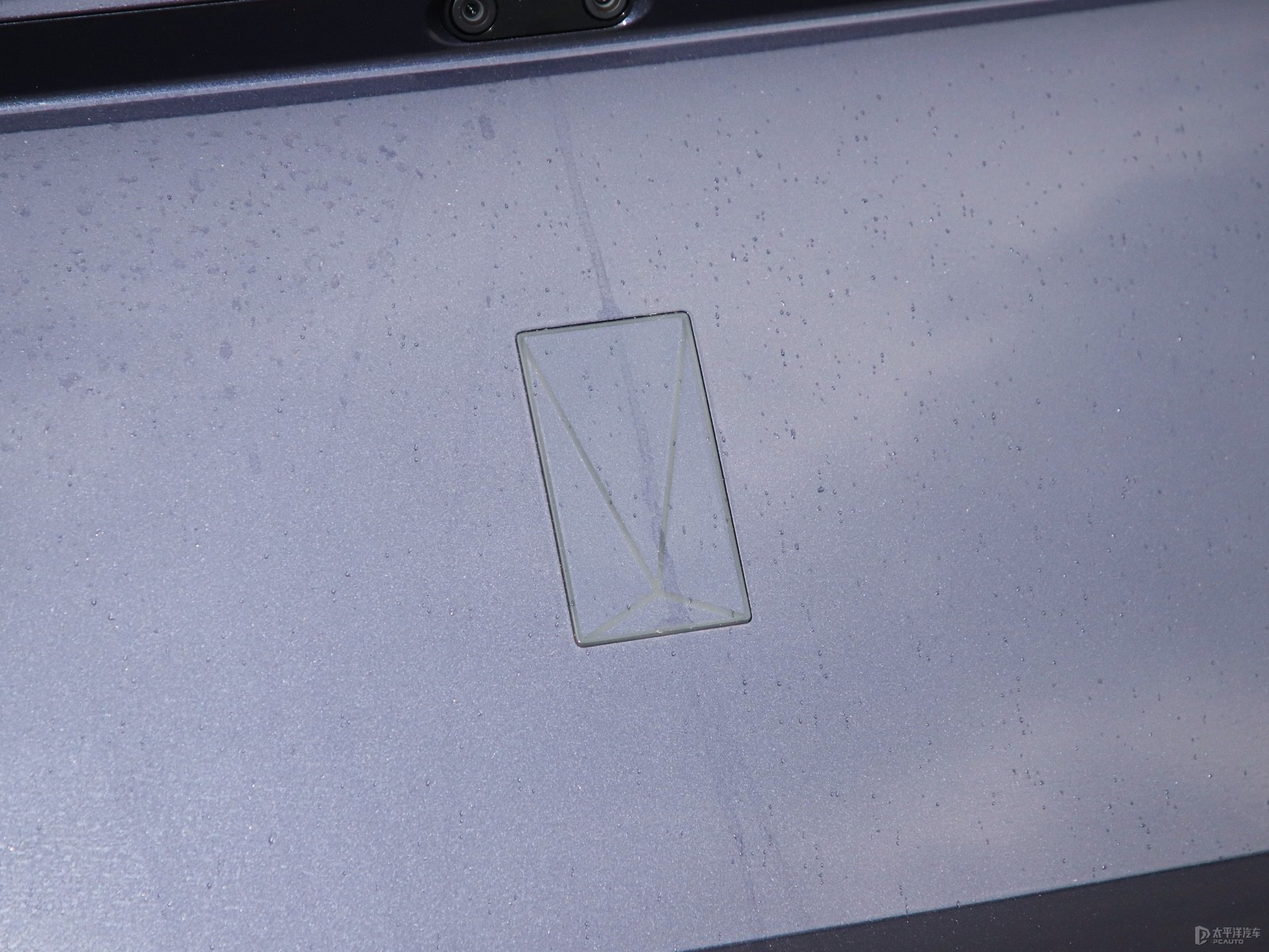AVATR: (516, 311, 751, 647)
